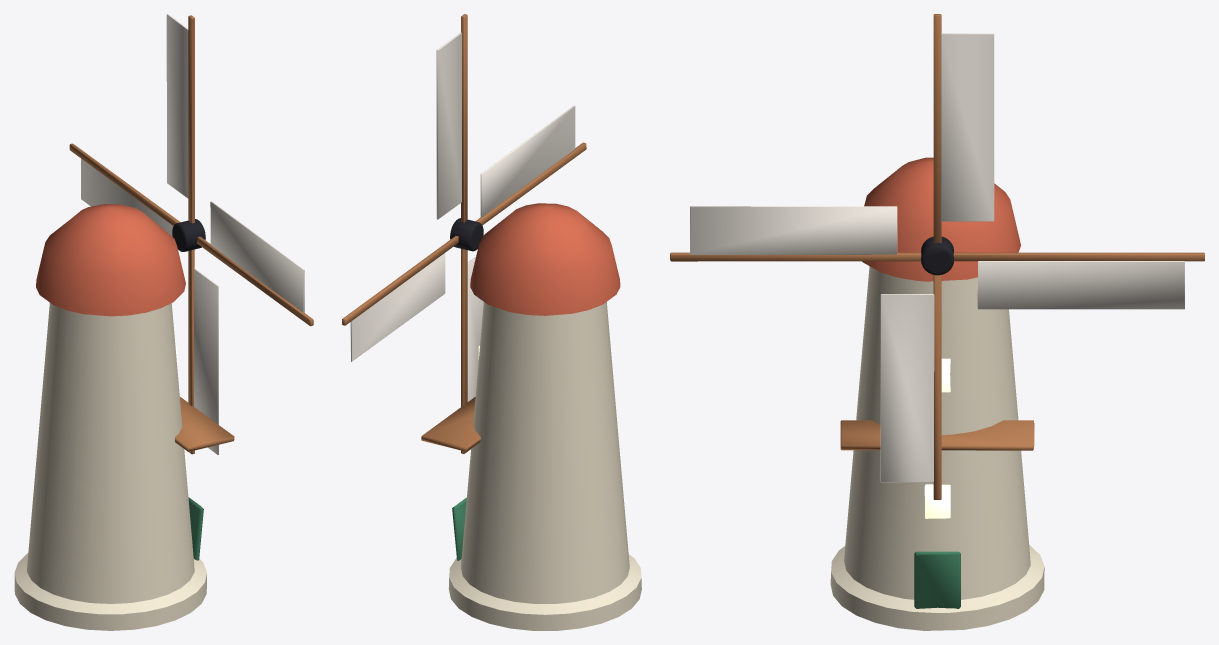
Rendered from windmill.glb.
3 renders of one model, left to right at view 1: azimuth 30°, elevation 25°; view 2: azimuth 150°, elevation 25°; view 3: azimuth 270°, elevation 25°, orthographic. The views are drawn at different scales.
Visible parts, largest first — view 1: windmill.003, blades.003; view 2: windmill.003, blades.003; view 3: windmill.003, blades.003.
Boxes of the visible parts, x1=… form: windmill.003: x1=14, y1=204, x2=234, y2=630; blades.003: x1=69, y1=14, x2=313, y2=454; windmill.003: x1=421, y1=203, x2=641, y2=630; blades.003: x1=342, y1=14, x2=586, y2=453; windmill.003: x1=830, y1=157, x2=1044, y2=630; blades.003: x1=670, y1=14, x2=1204, y2=499.
Size of the model in its own units: 6.59 by 20.3 by 15.99.
1 material, 1 textured.
